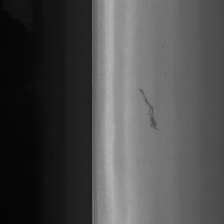water_spot: (136, 84, 160, 136)
